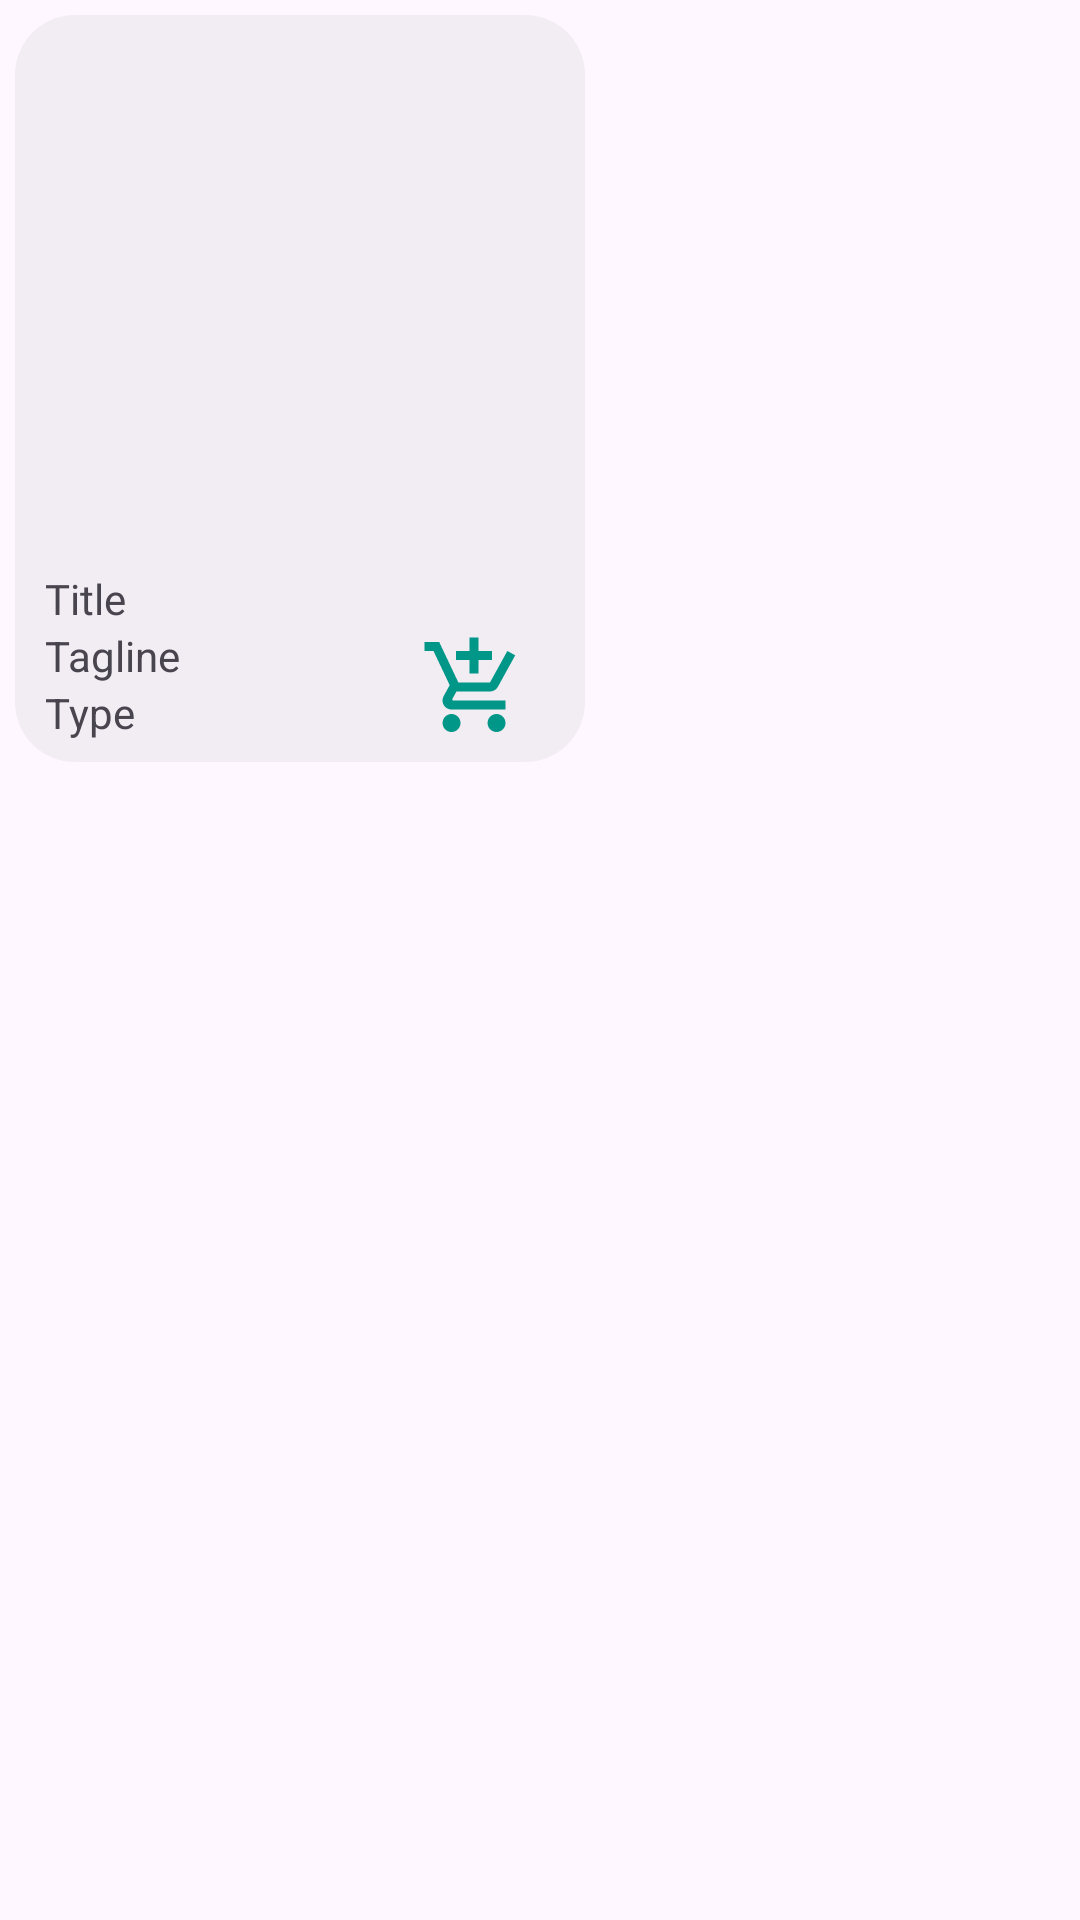

Icon click points for this 1080*1920 phone screenshot, format [x,y]:
add shopping cart: [469,684]
